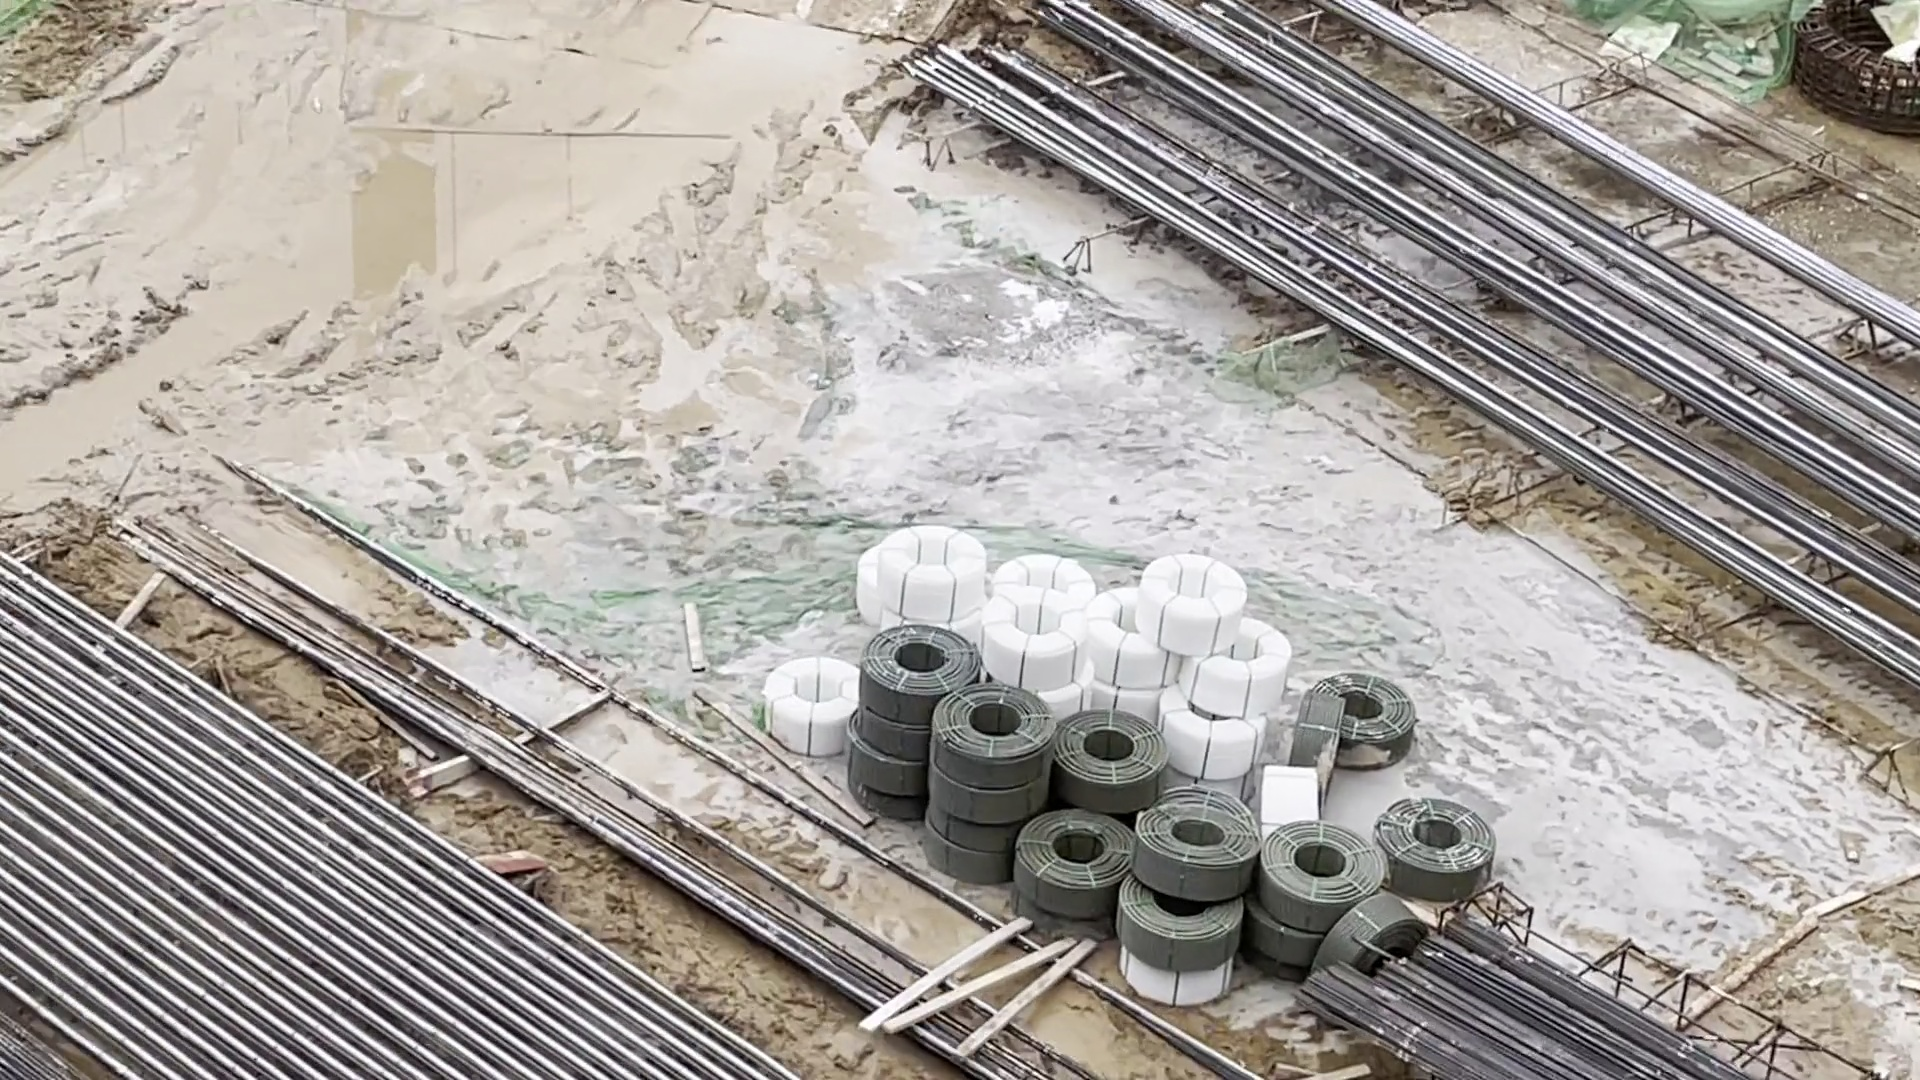rebar: (1110, 32, 1907, 481)
